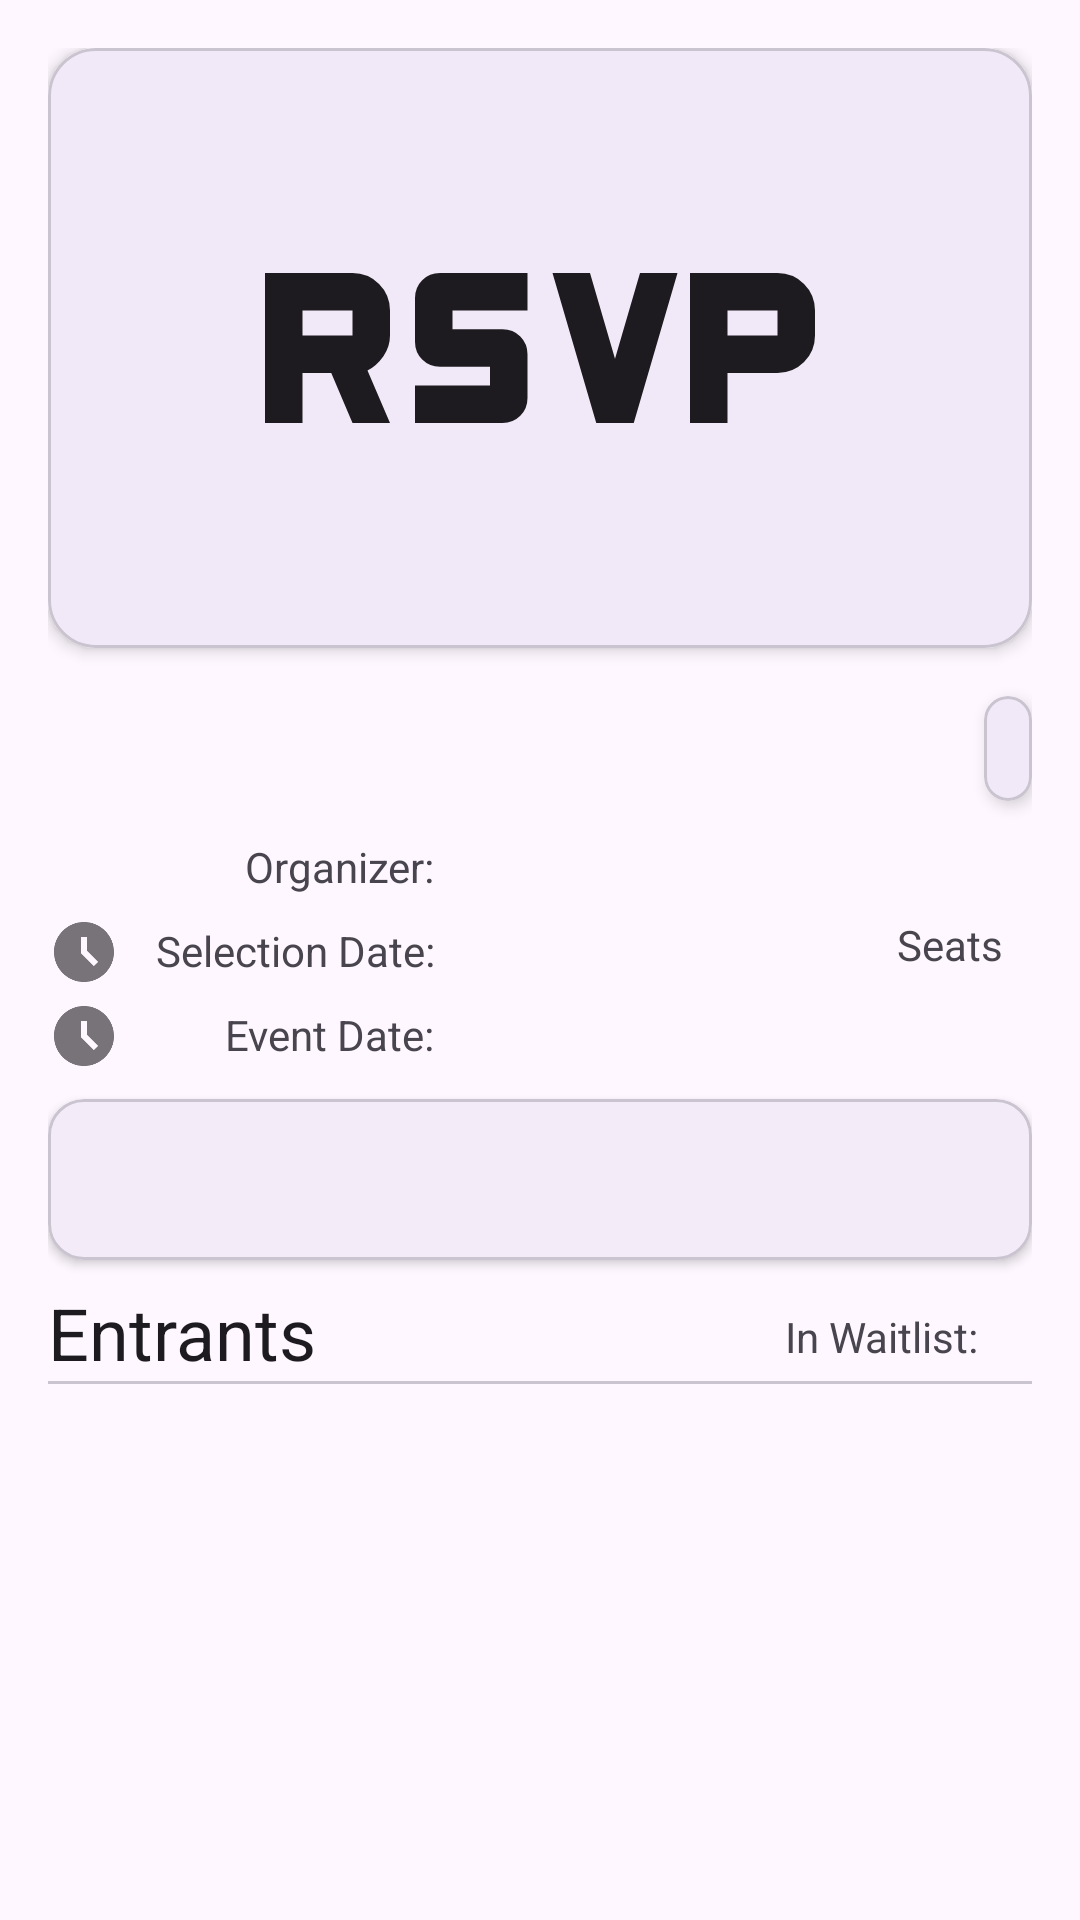

Icons on this 1080w x 1920h Android screen, each with the point to tap as [x,y]:
Date/time icon: [84,952], [84,1036]
